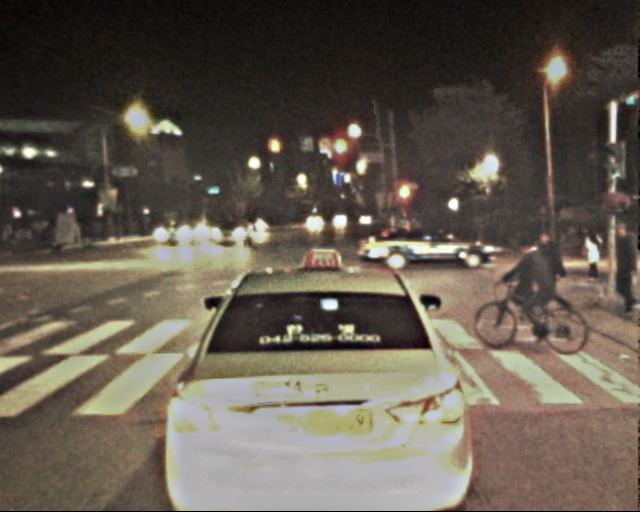person: (520, 243, 559, 338), (606, 225, 640, 318), (540, 231, 573, 311), (583, 228, 606, 285)
